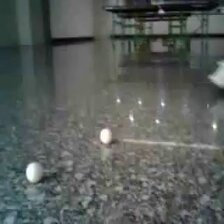w: (24, 162, 44, 182), (100, 129, 113, 144)
